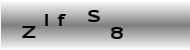8: (110, 26, 123, 40)
S: (87, 9, 101, 23)
Z: (20, 25, 37, 39)
f: (56, 13, 69, 27)
l: (44, 13, 49, 27)
